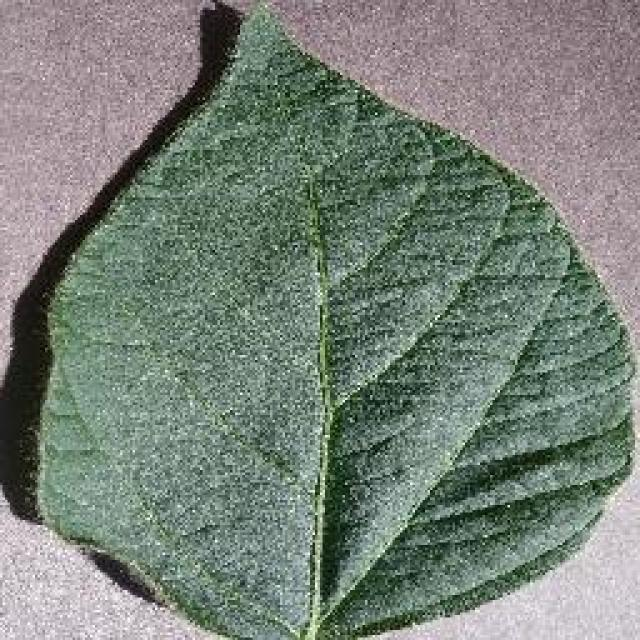Soy_healthy: (63, 46, 604, 580)
